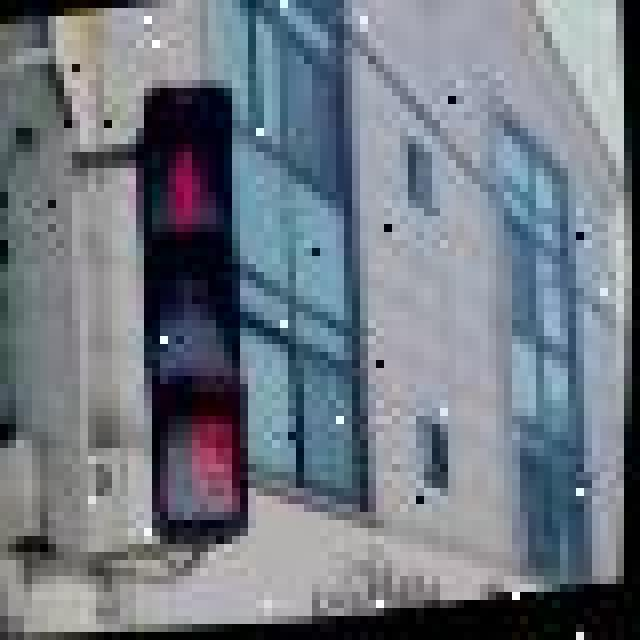redlight: (128, 96, 240, 384)
